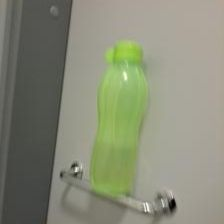bottle: (88, 39, 148, 194)
